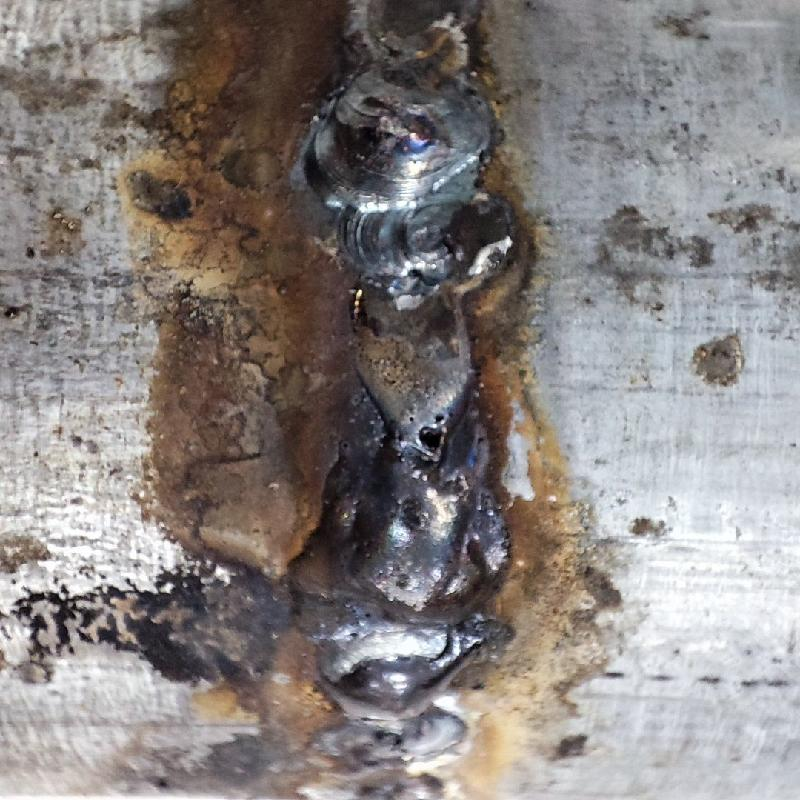Not_fully_soldered: (313, 206, 524, 457), (298, 722, 467, 798)
Surface_pores: (400, 406, 462, 457)
Weld: (276, 451, 525, 723)
wrong_size: (289, 1, 501, 205)
